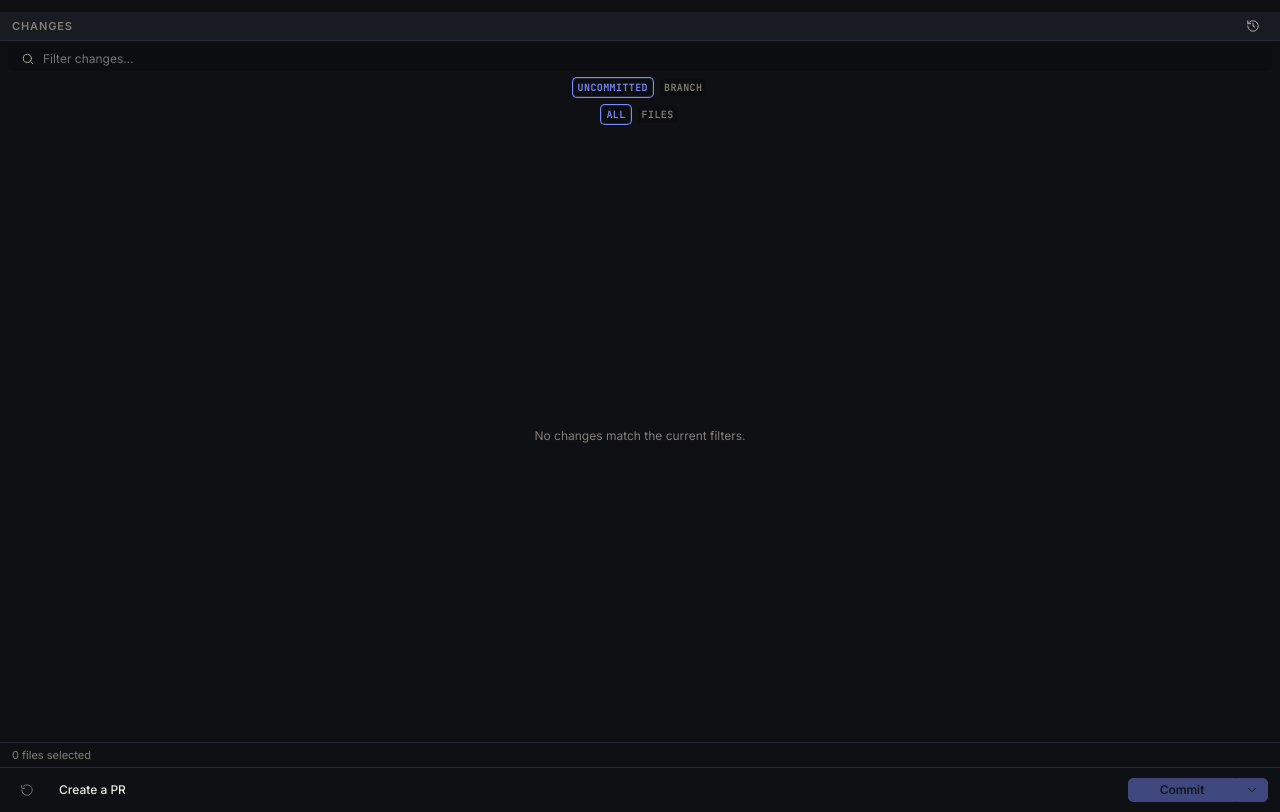
Test: the footer action control › CHG-FR-49, CHG-FR-35, CHG-FR-36 gives both halves of the split control one appearance
Click the radio button labelled "Files".
click(658, 114)  # box [636,104,680,125]
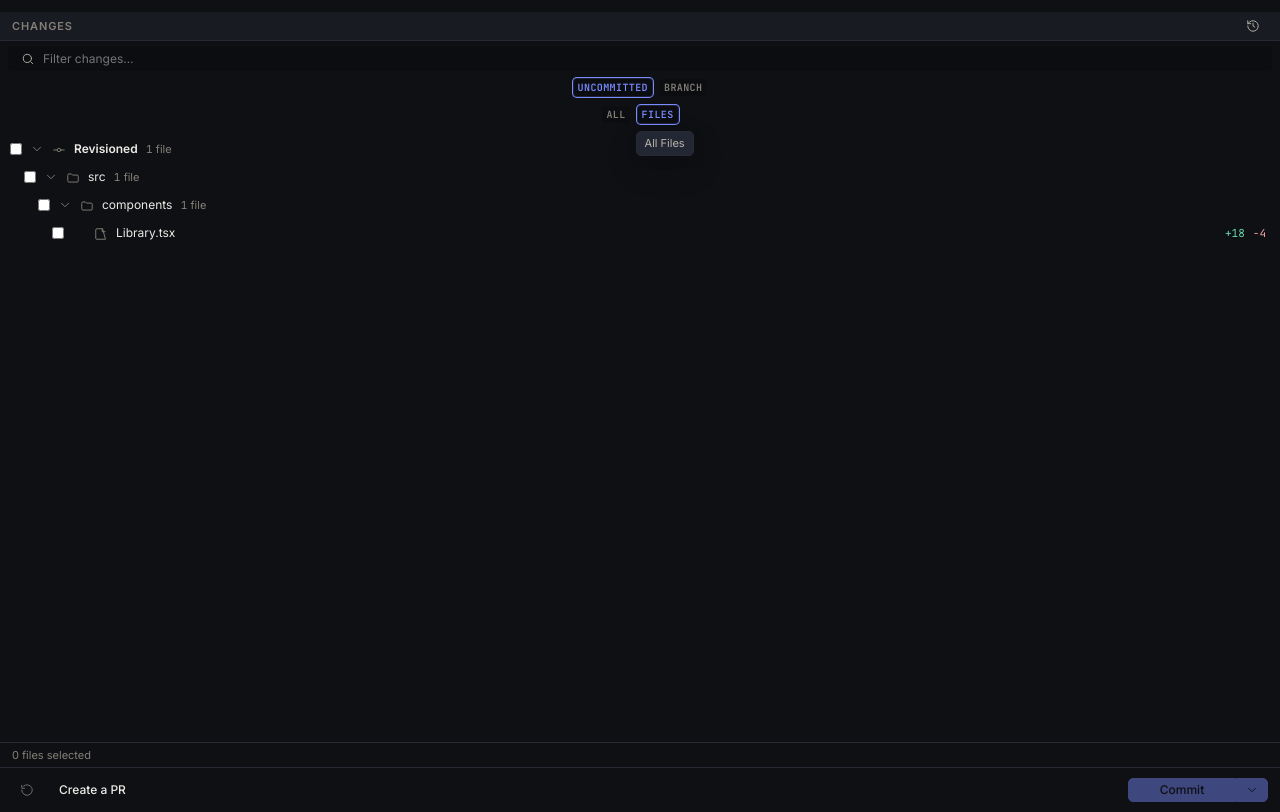
Expected: the button "Commit" is disabled, [1128,778,1236,802]
Expected: the text "Library.tsx" is shown, [116,225,175,240]
Click the button named "Choose action".
click(1252, 790)  # box [1236,778,1268,802]
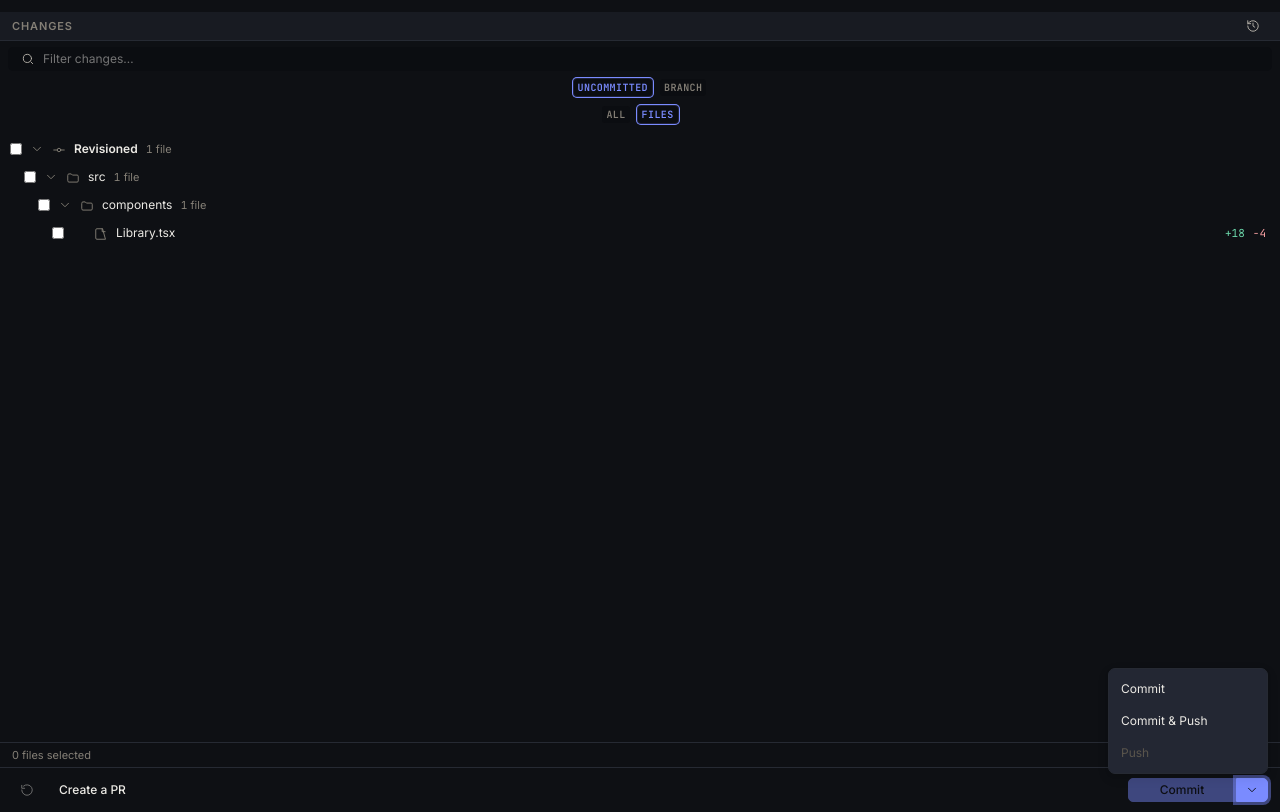
Expected: the list named "Commit action" is shown, [1108,668,1268,774]
Press Escape
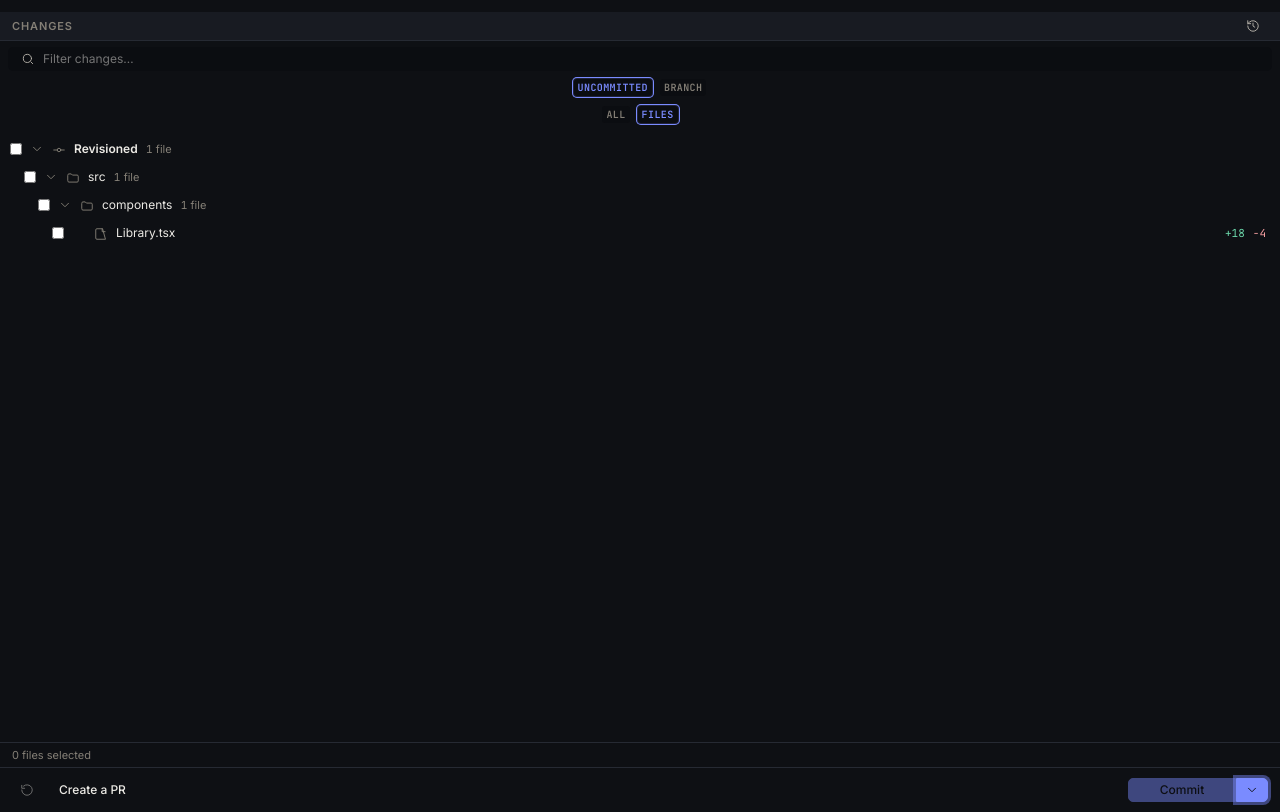
Click the checkbox named "Include src/components/Library.tsx".
click(58, 233)  # box [52,227,64,239]
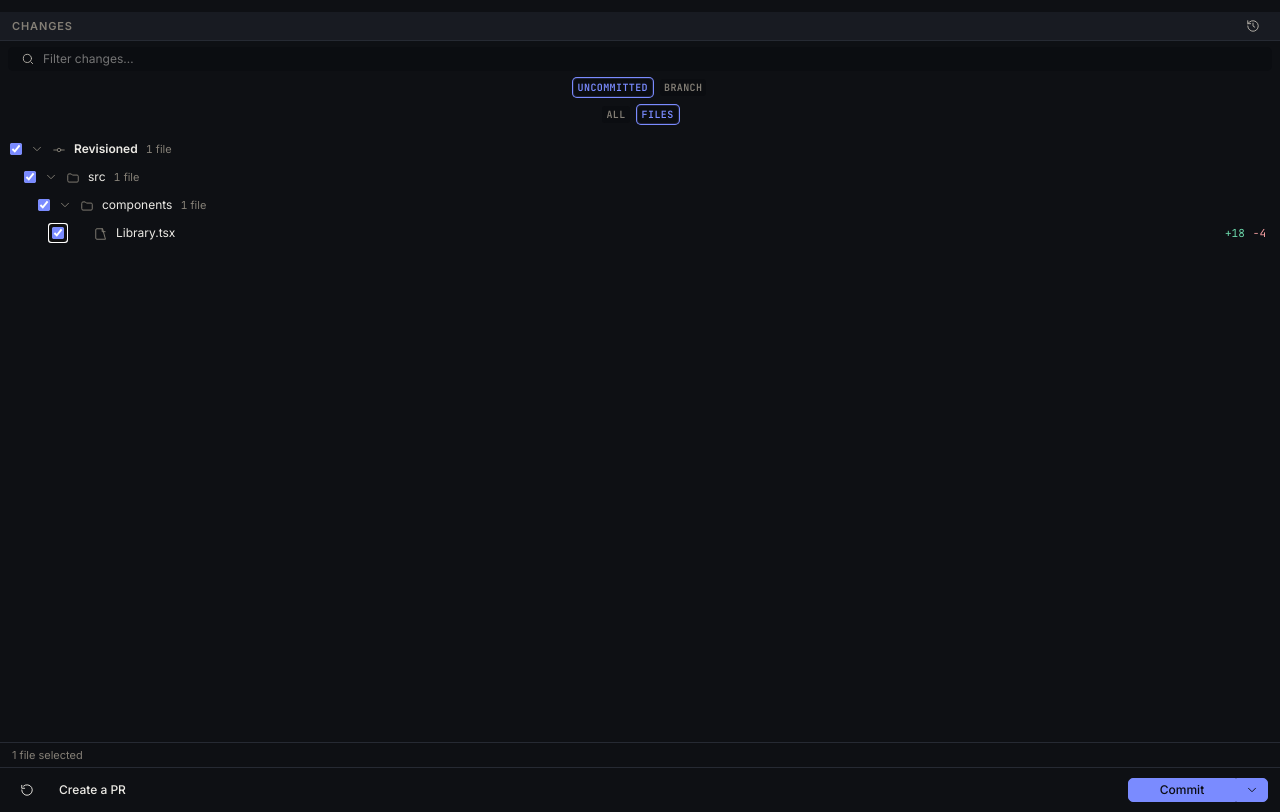
Expected: the button "Commit" is enabled, [1128,778,1236,802]
